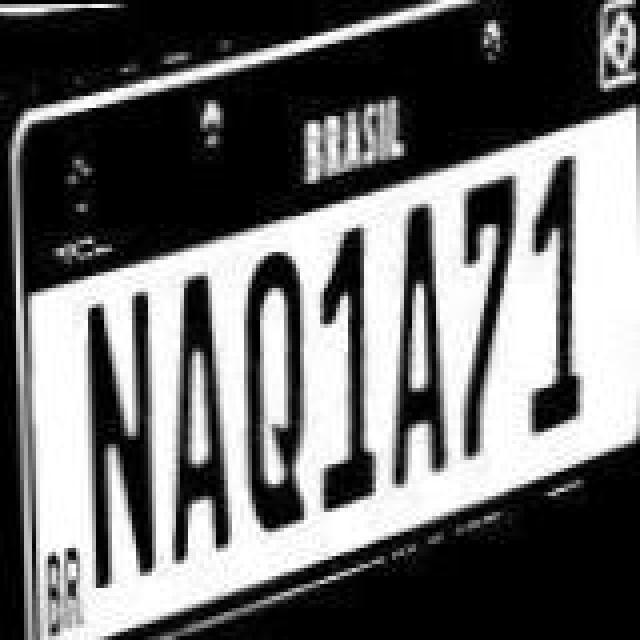1: (516, 154, 596, 438), (308, 224, 380, 520)
7: (448, 174, 528, 462)
A: (158, 268, 238, 568), (384, 204, 456, 488)
N: (80, 288, 160, 592)
Q: (240, 242, 316, 542)
